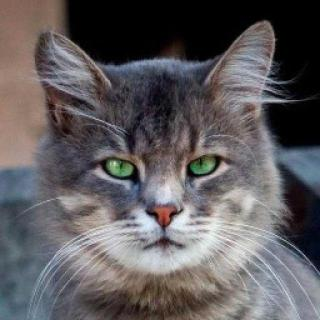cat: (28, 22, 277, 280)
nose: (144, 195, 186, 230)
